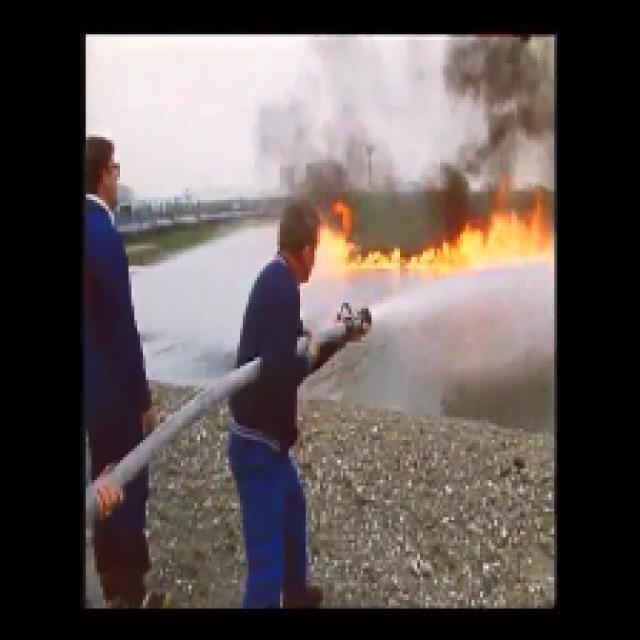Fire: (313, 225, 550, 274)
